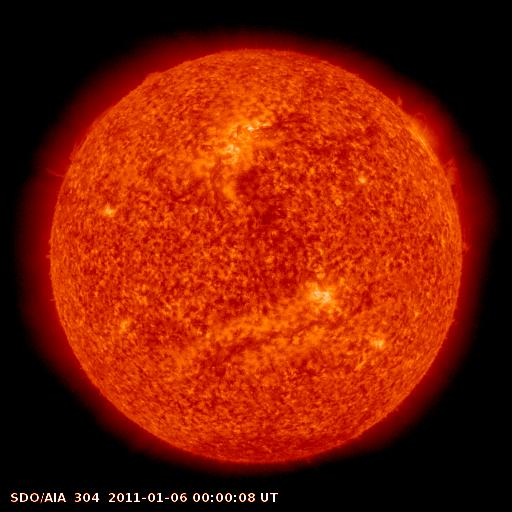prominence: (438, 157, 500, 259), (40, 108, 111, 182)
